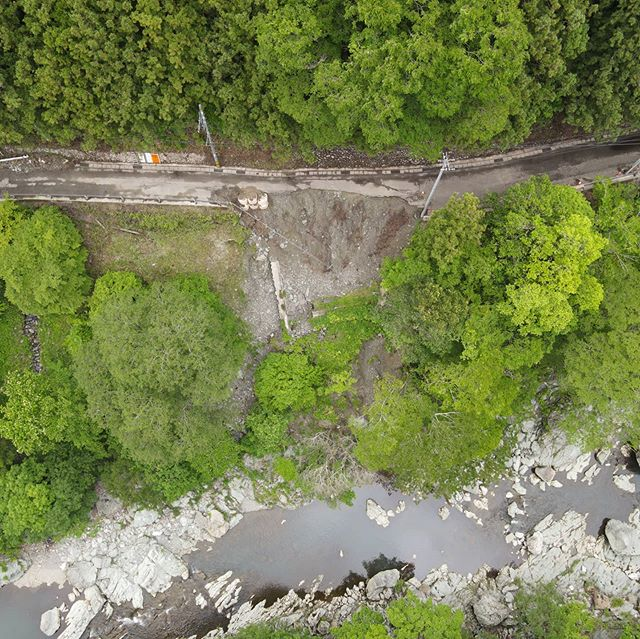river: (1, 499, 640, 639)
road: (1, 138, 619, 210)
vegetation: (343, 193, 640, 457), (1, 1, 620, 124), (1, 223, 227, 483)
